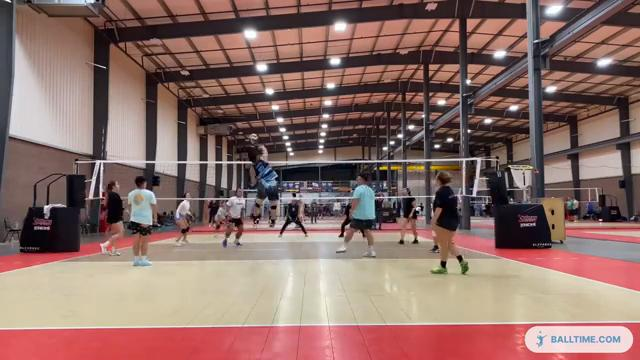Attack: (242, 142, 281, 229)
Player: (431, 172, 468, 273), (336, 173, 375, 257), (128, 176, 156, 265), (100, 181, 123, 255), (222, 189, 244, 247), (279, 193, 307, 236), (399, 188, 418, 244), (175, 192, 190, 245), (338, 203, 351, 237), (214, 203, 227, 230)
ball: (247, 132, 259, 144)
